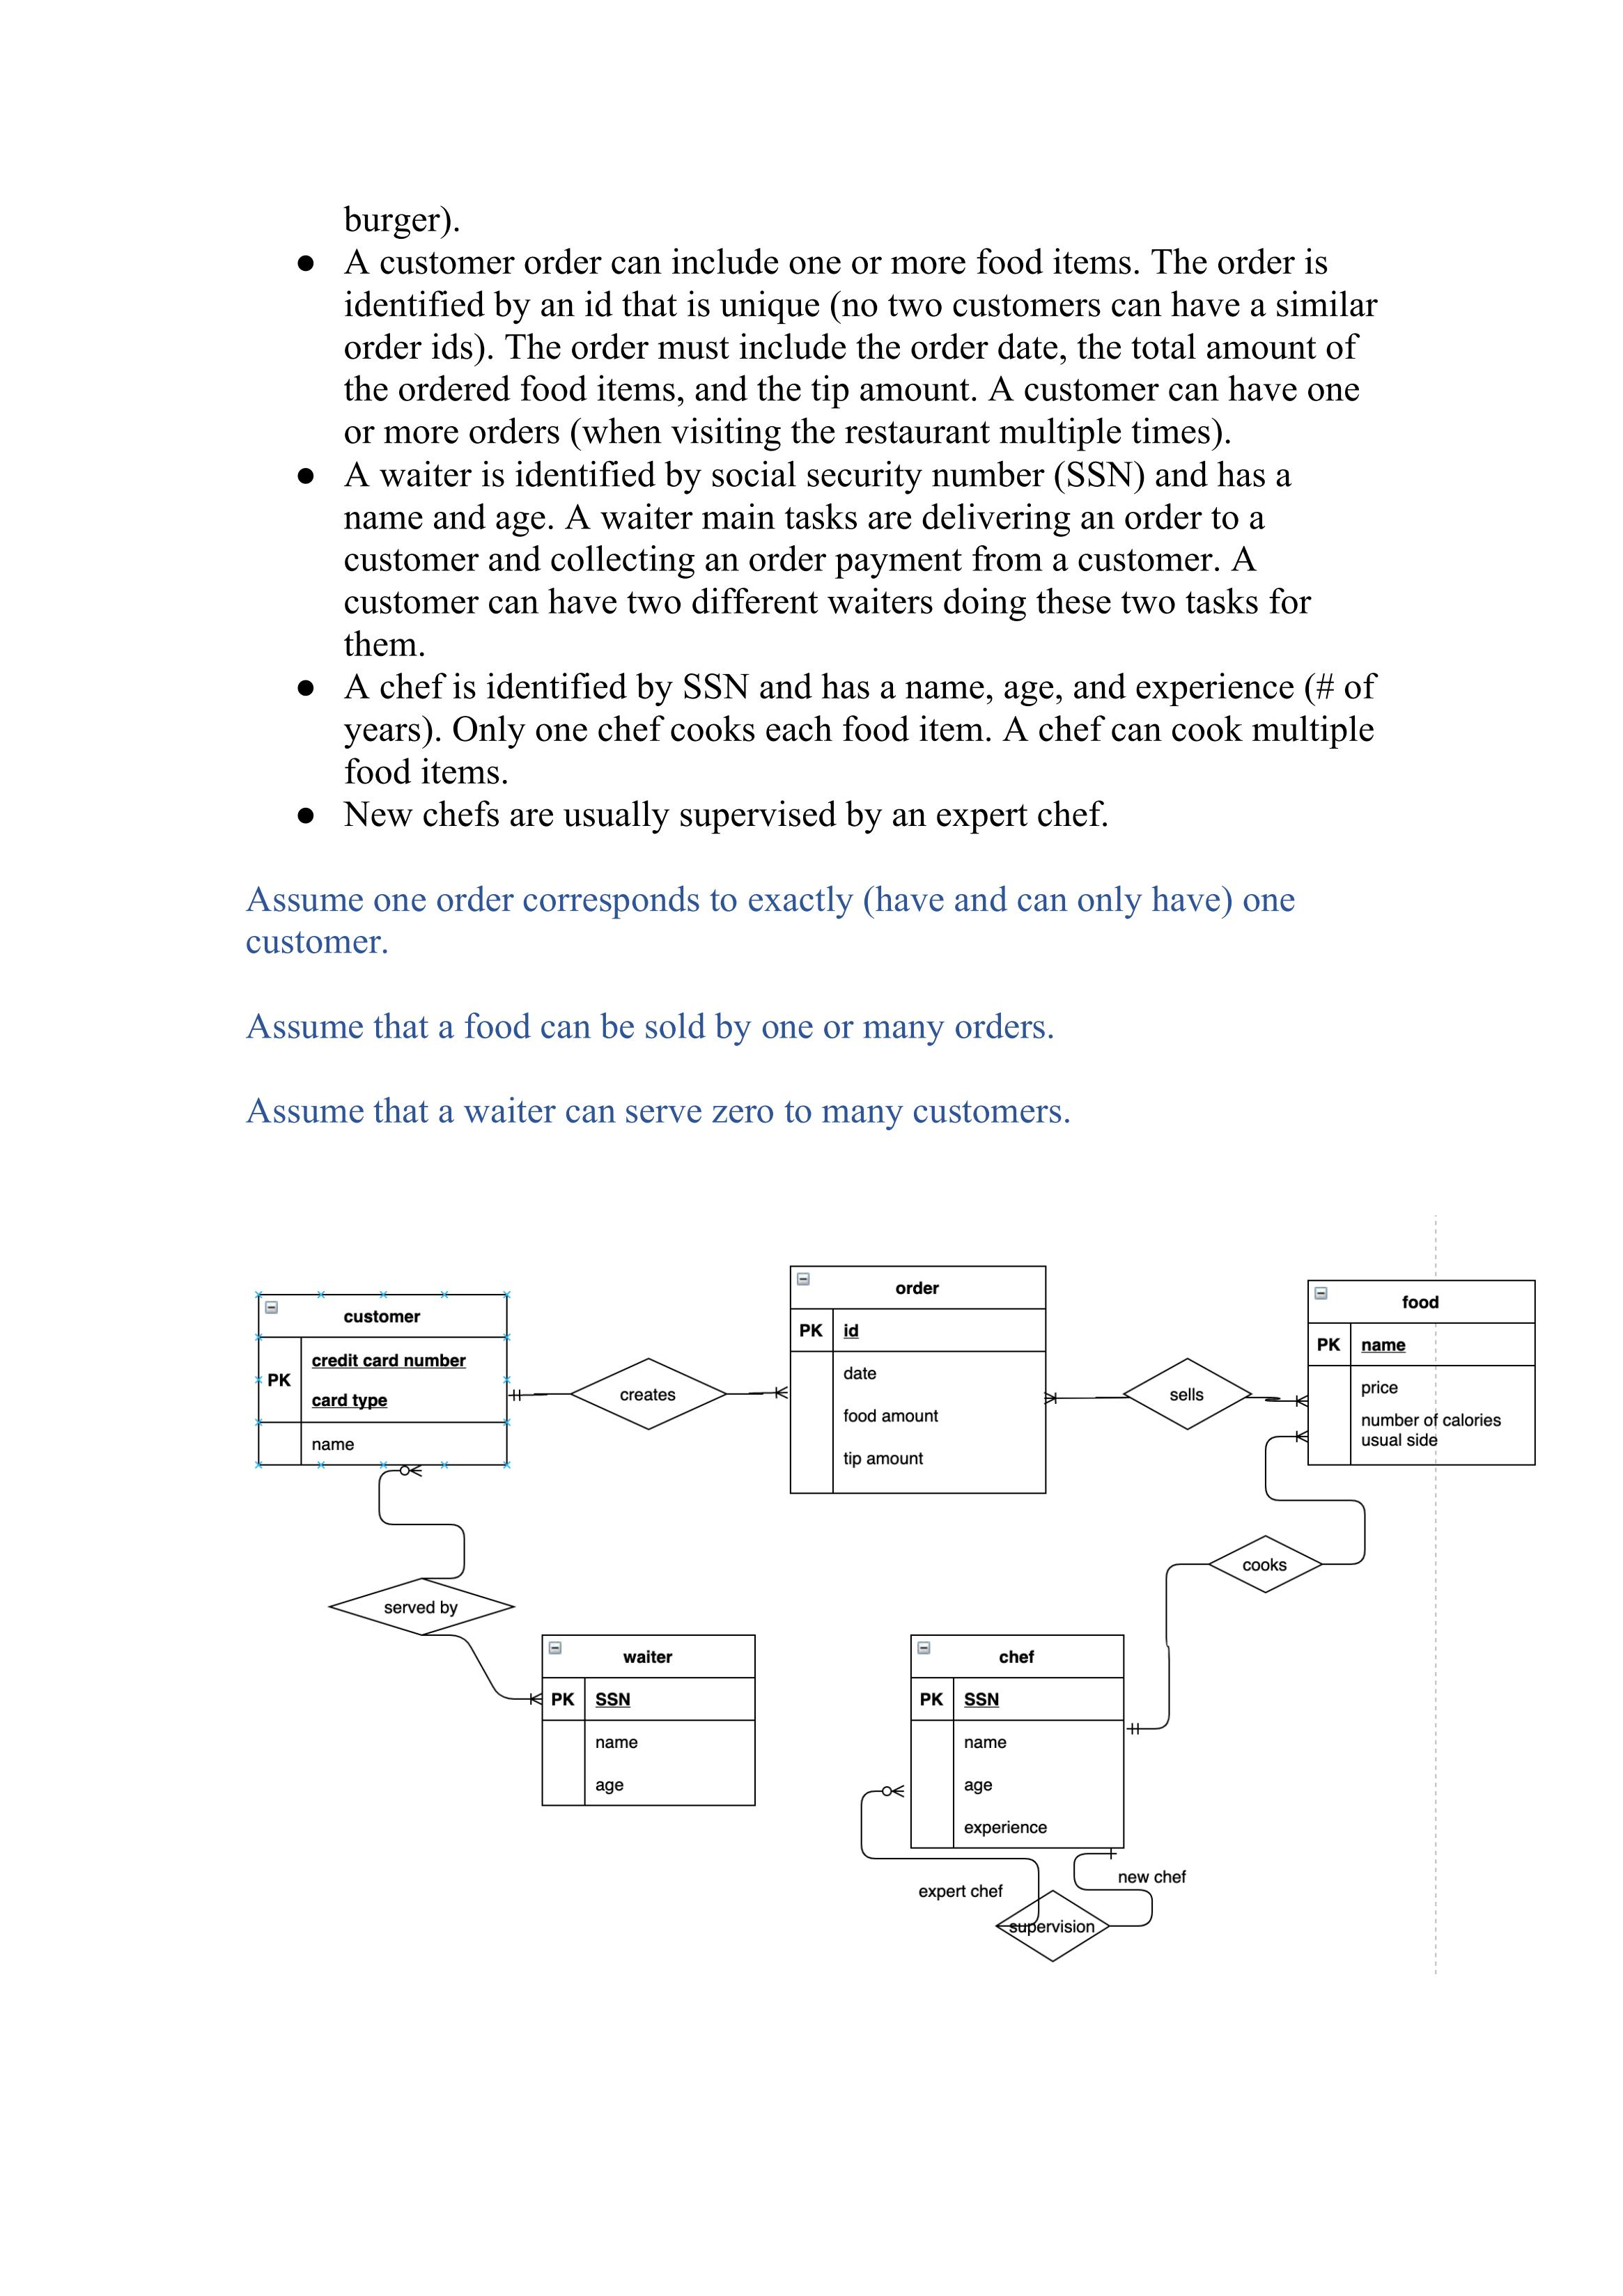Entity: (789, 1266, 1047, 1496), (910, 1634, 1126, 1850), (256, 1294, 509, 1467), (1307, 1278, 1537, 1467), (541, 1636, 757, 1808)
Relationship: (573, 1357, 725, 1429), (327, 1578, 516, 1636), (1122, 1355, 1252, 1429), (994, 1889, 1110, 1962), (1207, 1534, 1321, 1594)
